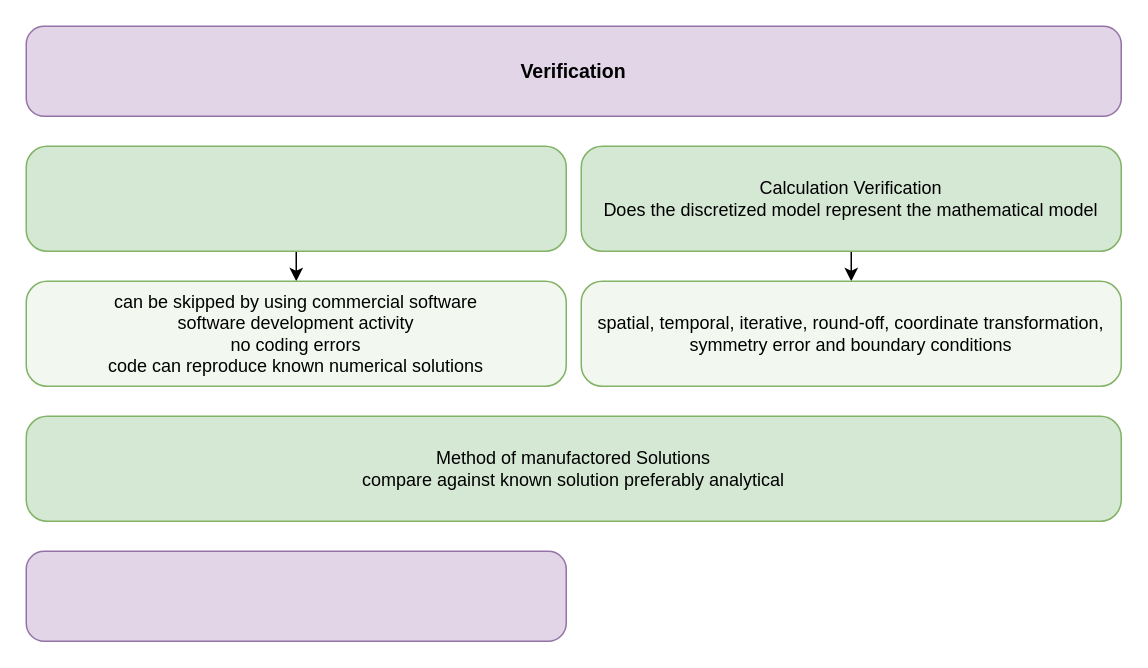
This 1148x668 diagram has some shape labels left out. Here are the shapes that lost their labels. From the top down, the box of each, then its label:
(25, 145, 566, 251): Code Verification Does the code represented the discretized mathematical model
(25, 550, 566, 641): Validation
